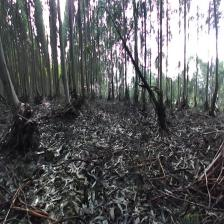trunk: (124, 45, 158, 110), (0, 38, 22, 118), (57, 9, 70, 105), (159, 15, 163, 102)
